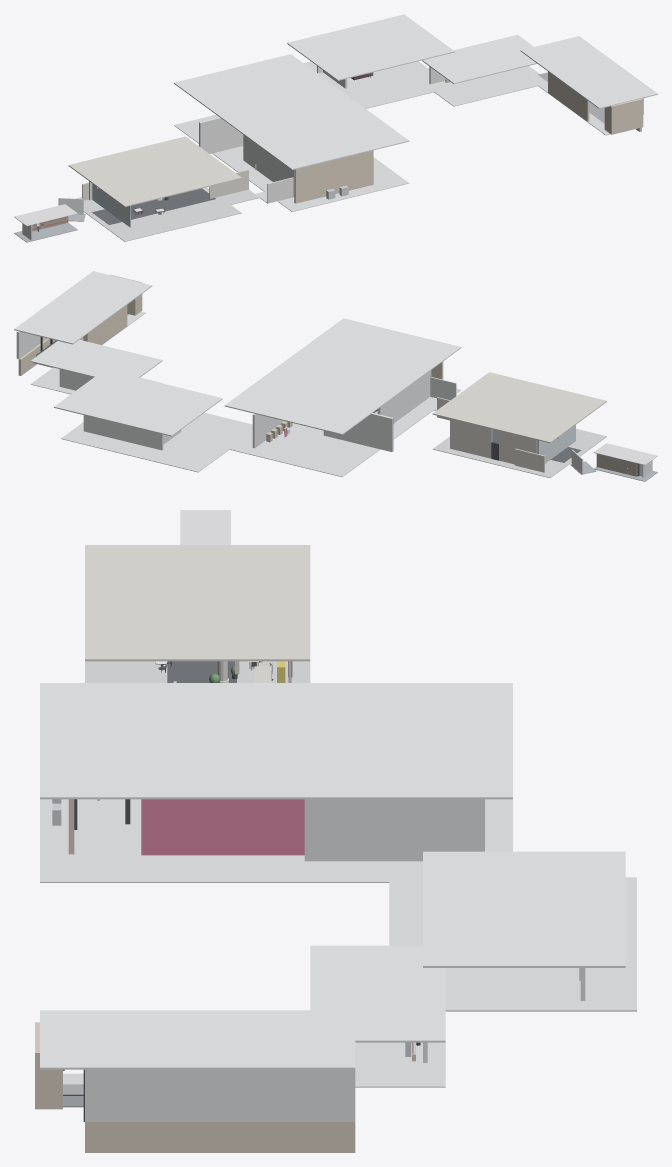
3 renders of one model, top to bottom at view 1: azimuth 30°, elevation 25°; view 2: azimuth 150°, elevation 25°; view 3: azimuth 270°, elevation 25°, orthographic. The views are drawn at different scales.
Visible parts, largest first — view 1: S03_ConcourseCeil_A, S02_Ceiling, S03_EdgeCeiling, S03_BridgeCeiling, S03_ConcourseCeil_C1, S03_ConcourseFloor_B, S03_JCP_Facade, S03_ConcourseFloor_A, S02_FloorBase, S03_ConcourseFloor_C1, S02_FloorWalkway, S03_AcrossAtriumStores (+10 smaller); view 2: S03_ConcourseCeil_A, S02_Ceiling, S03_EdgeCeiling, S03_BridgeCeiling, S03_ConcourseFloor_A, S03_ConcourseFloor_B, S03_ConcourseCeil_C1, S02_FloorBase, S03_AcrossAtriumStores, S03_EdgeFacade, S02_BackWall_R, S03_WestStoresWall (+12 smaller); view 3: S03_ConcourseCeil_A, S02_Ceiling, S03_EdgeCeiling, S03_BridgeCeiling, S03_ConcourseFloor_A, S03_UpperAtriumFacade, S03_ConcourseFloor_B, S03_ConcourseCeil_C1, S03_BoutiqueWall, S03_ZayraBackWall, S03_LowerLevelFacade, S03_ConcourseFloor_C1 (+4 smaller).
Boxes of the visible parts, x1,y1,x2,y2 form: S03_ConcourseCeil_A: (174,54,409,170); S02_Ceiling: (68,136,241,206); S03_EdgeCeiling: (287,14,454,80); S03_BridgeCeiling: (520,36,657,108); S03_ConcourseCeil_C1: (422,34,537,83); S03_ConcourseFloor_B: (303,61,452,108); S03_JCP_Facade: (294,150,373,203); S03_ConcourseFloor_A: (174,115,409,211); S02_FloorBase: (76,187,241,241); S03_ConcourseFloor_C1: (434,66,539,106); S02_FloorWalkway: (92,188,215,224); S03_AcrossAtriumStores: (199,117,243,153); S03_ConcourseCeil_A: (224,318,461,434); S02_Ceiling: (432,372,606,443); S03_EdgeCeiling: (54,369,222,436); S03_BridgeCeiling: (14,271,152,344); S03_ConcourseFloor_A: (229,388,460,477); S03_ConcourseFloor_B: (61,412,252,472); S03_ConcourseCeil_C1: (30,339,162,377); S02_FloorBase: (432,428,606,478); S03_AcrossAtriumStores: (323,413,393,451); S03_EdgeFacade: (83,415,163,450); S02_BackWall_R: (450,419,492,458); S03_WestStoresWall: (377,370,431,422); S03_ConcourseCeil_A: (40,683,512,799); S02_Ceiling: (85,545,310,661); S03_EdgeCeiling: (423,851,625,967); S03_BridgeCeiling: (40,1010,355,1069); S03_ConcourseFloor_A: (40,799,512,882); S03_UpperAtriumFacade: (85,1069,355,1121); S03_ConcourseFloor_B: (389,877,636,1011); S03_ConcourseCeil_C1: (310,945,445,1042); S03_BoutiqueWall: (304,799,484,861); S03_ZayraBackWall: (141,799,304,855); S03_LowerLevelFacade: (85,1122,355,1152); S03_ConcourseFloor_C1: (355,1042,445,1087).
Bounding box in the file's own units: 122 × 11.5 × 53.45.
